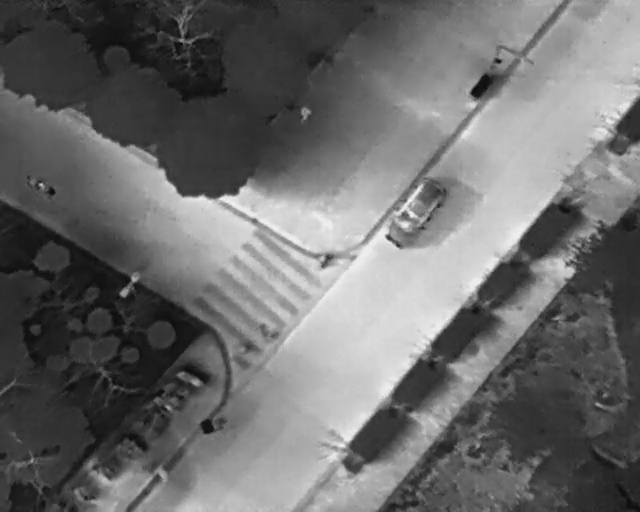Car: (378, 170, 451, 255)
DontCare: (70, 361, 210, 511)
Person: (300, 103, 311, 123)
